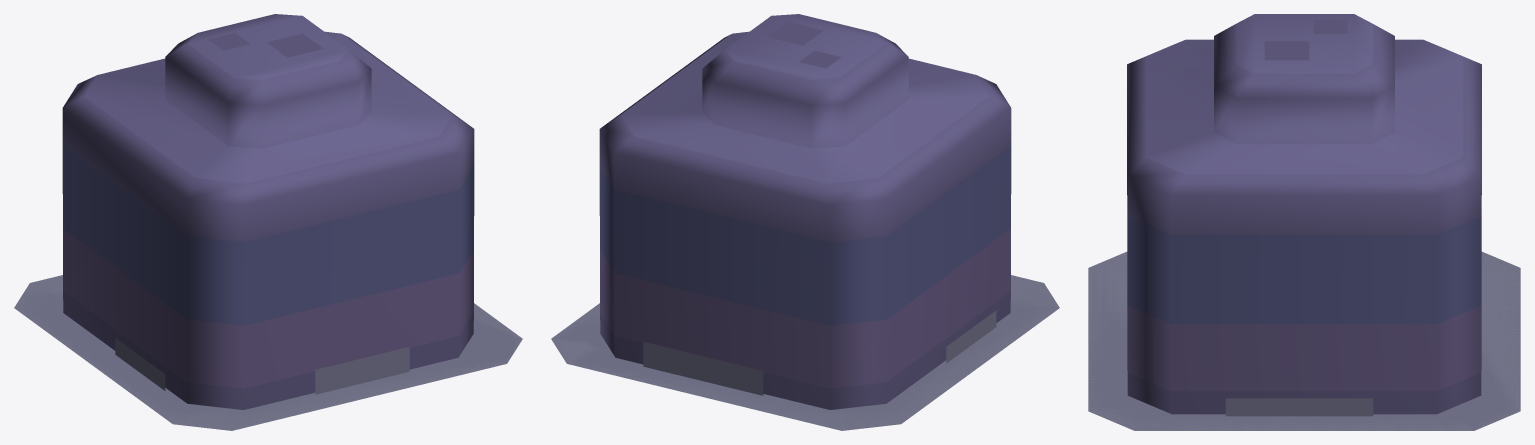
Rendered from B_cave1_rock00.fbx.
3 views of the same model, side by side, from view 1: azimuth 30°, elevation 25°; view 2: azimuth 150°, elevation 25°; view 3: azimuth 270°, elevation 25° (orthographic). The views are drawn at different scales.
Visible parts, largest first — view 1: model 1, model; view 2: model 1, model; view 3: model 1, model.
Part boxes in pixels (x1,y1,x2,y2): model 1: [14, 14, 522, 430]; model: [14, 275, 522, 430]; model 1: [552, 14, 1059, 430]; model: [551, 275, 1059, 430]; model 1: [1088, 14, 1520, 430]; model: [1088, 251, 1520, 430].
Bounding box in the file's own units: 2.07 × 1.59 × 2.07.
